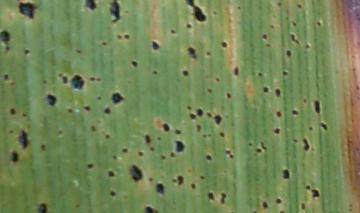tarspot: (184, 1, 207, 22), (19, 2, 38, 20), (109, 1, 121, 23), (71, 74, 85, 90), (129, 164, 142, 181), (18, 130, 29, 149), (1, 30, 10, 50), (112, 92, 124, 104), (186, 46, 197, 59), (290, 33, 301, 45), (46, 93, 55, 107), (156, 181, 165, 195), (144, 205, 158, 213), (36, 203, 47, 213), (176, 173, 185, 185), (302, 138, 310, 151), (86, 1, 97, 10), (214, 115, 223, 126), (281, 168, 290, 179), (313, 100, 320, 114), (10, 151, 18, 163), (310, 189, 320, 198), (152, 40, 160, 51), (176, 141, 184, 152), (320, 121, 328, 131), (103, 106, 111, 115), (207, 191, 215, 200), (144, 134, 151, 144), (197, 108, 204, 118), (300, 201, 307, 211), (233, 66, 239, 77), (221, 192, 227, 203), (181, 69, 189, 77), (120, 147, 129, 154), (163, 123, 170, 132), (109, 189, 116, 198), (275, 88, 281, 98), (261, 141, 267, 151), (262, 200, 268, 210), (315, 19, 322, 27), (9, 107, 16, 115), (83, 104, 90, 112), (116, 33, 123, 41), (131, 59, 138, 67), (281, 70, 289, 77), (273, 127, 280, 135), (40, 143, 46, 152), (189, 114, 198, 120), (196, 124, 202, 133), (226, 91, 232, 100), (291, 19, 297, 28), (304, 183, 311, 190), (152, 69, 158, 77), (205, 50, 211, 58), (263, 86, 269, 94), (286, 49, 292, 57), (190, 182, 196, 190), (63, 75, 68, 84), (222, 40, 227, 49), (3, 74, 9, 81), (87, 163, 94, 169), (101, 40, 107, 47), (124, 33, 131, 39), (112, 154, 118, 161), (149, 145, 155, 152), (175, 129, 182, 135), (169, 152, 176, 158), (170, 29, 177, 35), (219, 131, 225, 138), (205, 155, 212, 161), (276, 198, 283, 204), (108, 170, 115, 176), (74, 202, 81, 208), (263, 33, 268, 41), (122, 9, 130, 14), (21, 112, 27, 118), (57, 129, 63, 135), (90, 76, 96, 82), (138, 151, 144, 157), (186, 23, 192, 29), (207, 88, 213, 94), (207, 112, 213, 118), (202, 133, 208, 139), (257, 71, 263, 77), (277, 1, 283, 7), (297, 3, 303, 9), (304, 44, 310, 50), (276, 112, 282, 118), (292, 109, 298, 115), (200, 175, 206, 181), (148, 177, 154, 183), (105, 133, 110, 140), (229, 152, 234, 159), (255, 148, 262, 153), (265, 43, 272, 48), (96, 119, 103, 124), (349, 206, 354, 213), (278, 209, 286, 213), (25, 50, 31, 55), (68, 107, 73, 113), (91, 126, 96, 132), (76, 49, 82, 54), (161, 154, 166, 160), (225, 149, 231, 154), (215, 77, 221, 82), (247, 142, 253, 147), (269, 24, 275, 29), (292, 138, 298, 143), (303, 97, 307, 104), (10, 81, 15, 86), (42, 80, 47, 85), (96, 77, 101, 82), (212, 10, 217, 15), (309, 127, 314, 132), (8, 130, 14, 134), (172, 178, 178, 182), (59, 73, 63, 78), (97, 96, 102, 100), (187, 105, 191, 110), (158, 136, 161, 142), (237, 6, 241, 10), (356, 86, 360, 90), (253, 210, 257, 213)
